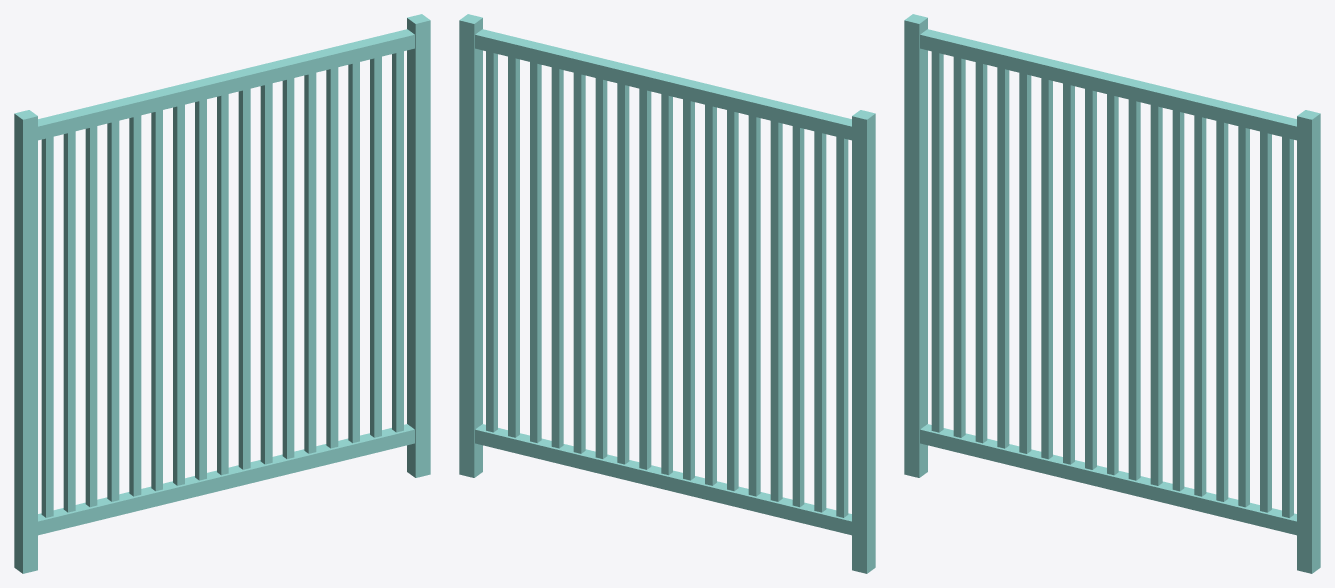
Rendered from fence.fbx.
3 views of the same model, side by side, from view 1: azimuth 30°, elevation 25°; view 2: azimuth 150°, elevation 25°; view 3: azimuth 330°, elevation 25° (orthographic).
Visible parts, largest first — view 1: Куб; view 2: Куб; view 3: Куб.
Boxes of the visible parts, bbox=[...] form: Куб: bbox=[14, 14, 430, 573]; Куб: bbox=[459, 14, 875, 573]; Куб: bbox=[904, 14, 1320, 573].
Bounding box in the file's own units: 216 × 230 × 8.
